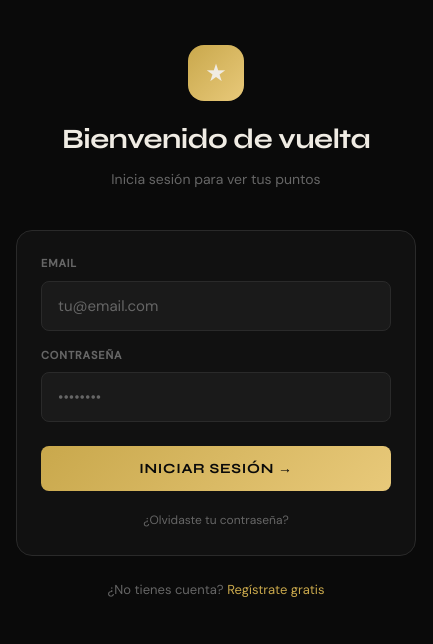
Test: Autenticación › Login › muestra error con credenciales inválidas
In the field with test id "login-email": (216, 306) x1=41 y1=281 x2=391 y2=331, type "doesnotexist@example.com"
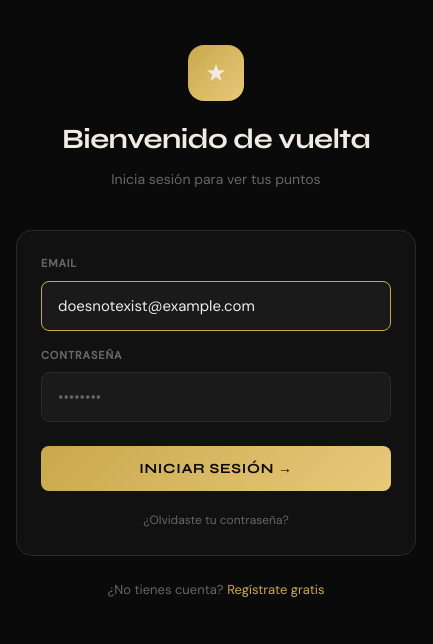
In the password field with test id "login-password": (216, 397) x1=41 y1=372 x2=391 y2=422, type "wrongpassword"
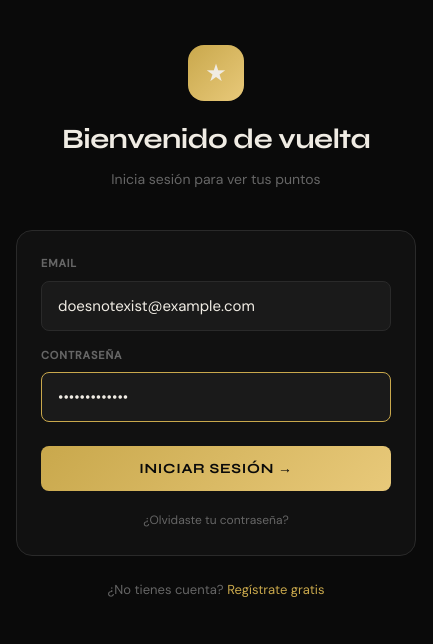
Click the button with test id "login-submit": (216, 469) x1=41 y1=446 x2=391 y2=491
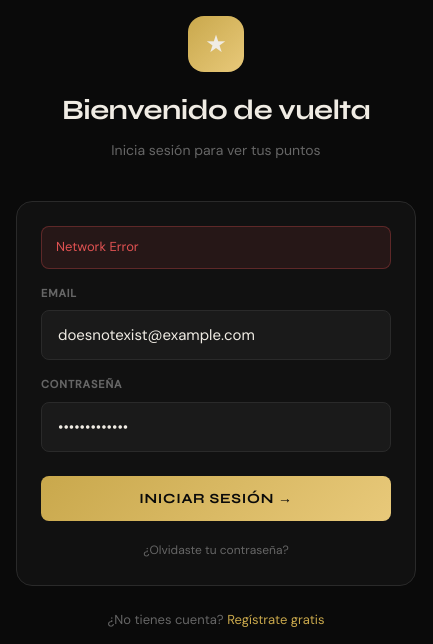
Now the text with test id "login-error" is shown, box x1=41 y1=226 x2=391 y2=269
